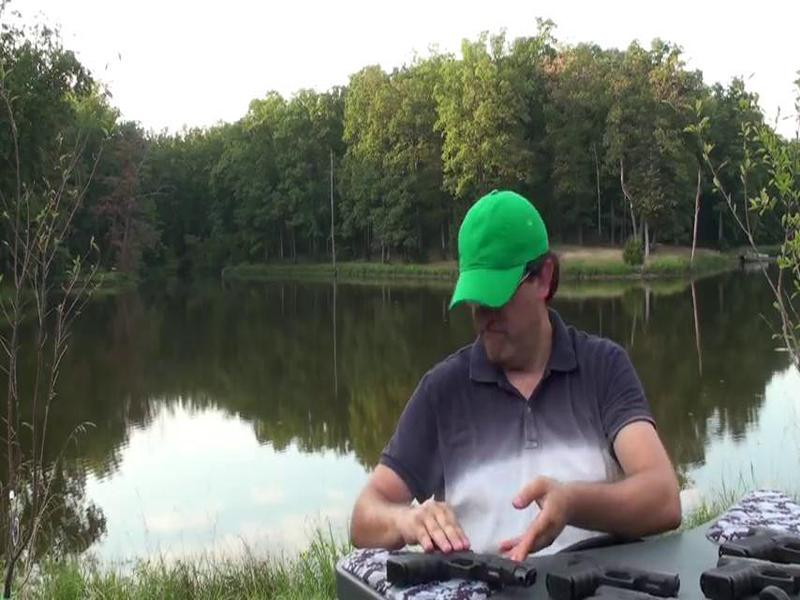Pistola: (370, 513, 539, 600)
